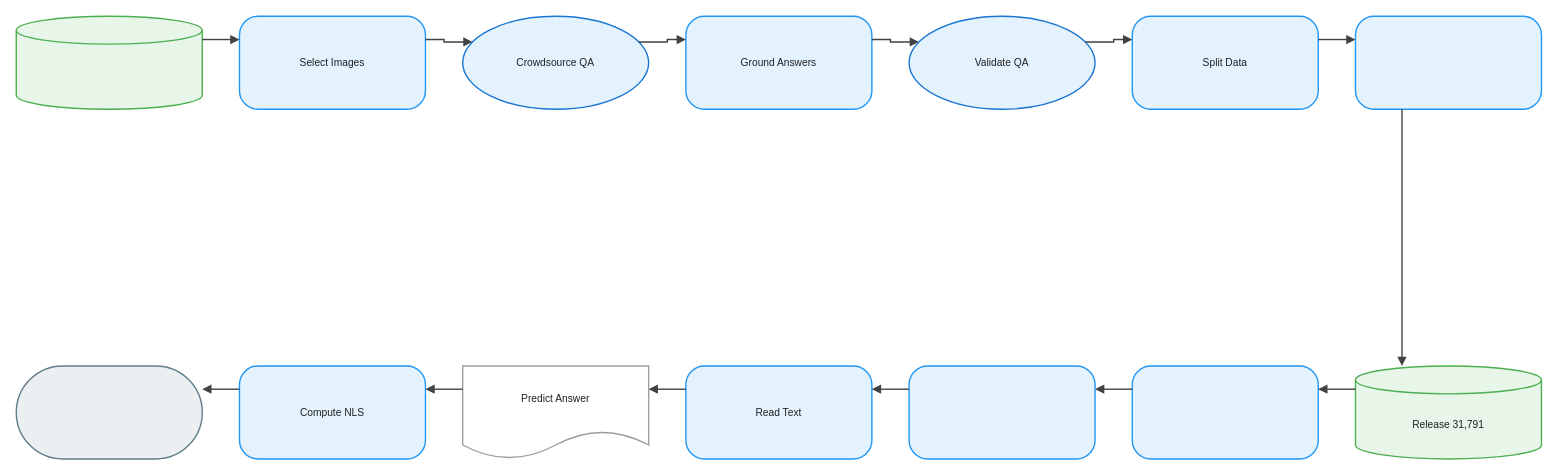
This 1559x476 diagram has some shape labels left out. The box of each missing label's shape, as (x1, y1, x2, y2) in pixels:
Apply Lexicon: (908, 365, 1095, 459)
Average ANLS: (15, 365, 203, 459)
Build 3 Tasks: (1354, 15, 1542, 110)
Give Image+Q: (1131, 365, 1319, 459)
Pool 7 Sources: (15, 15, 203, 110)
